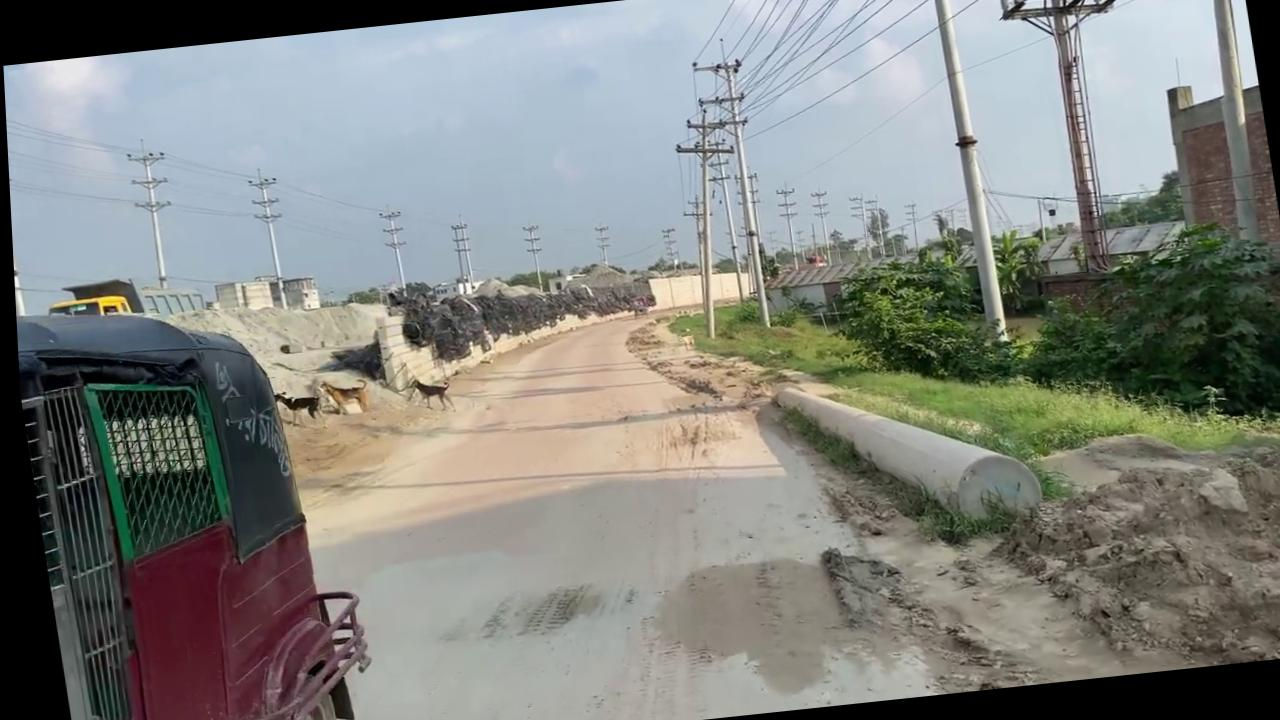Dog: (314, 374, 366, 417), (268, 386, 319, 428), (401, 373, 450, 413), (672, 331, 692, 351)
Muddy road: (990, 235, 1280, 679)
Pole: (763, 355, 1042, 545), (929, 0, 1006, 344), (1193, 0, 1267, 246), (1039, 0, 1105, 271), (4, 91, 27, 316)
Tree: (11, 272, 370, 720), (38, 268, 204, 328)
